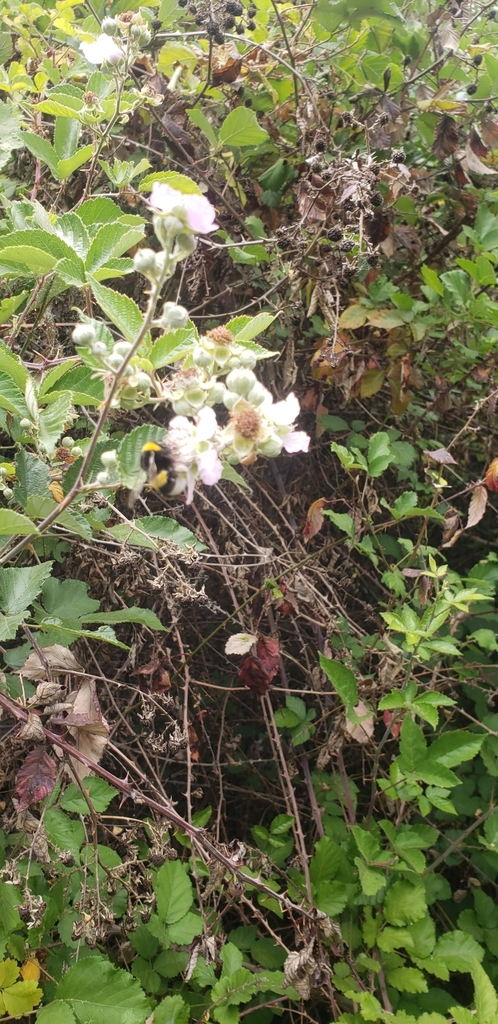bumblebee: (128, 440, 193, 507)
